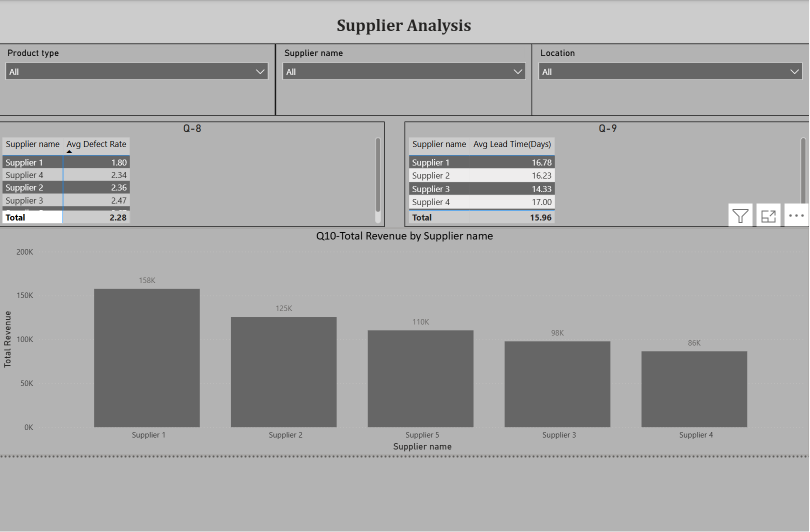

What the dashboard file says about the page in this screenshot:
{"tool":"powerbi","page":{"name":"Supplier Analysis","canvas":[1280,720],"ordinal":2},"visuals":[{"type":"pivotTable","title":"Q-8","fields":{"Rows":["project_supply_chain_data supply_chain_data.Supplier name"],"Values":["project_supply_chain_data supply_chain_data.Avg Defect Rate"]},"box":[0,193,609.5,166.6],"z":0},{"type":"tableEx","title":"Q-9","fields":{"Values":["project_supply_chain_data supply_chain_data.Supplier name","project_supply_chain_data supply_chain_data.Avg Lead Time(Days)"]},"box":[640,193,640,166.6],"z":1000},{"type":"clusteredColumnChart","title":"Q10-Total Revenue by Supplier name","fields":{"Category":["project_supply_chain_data supply_chain_data.Supplier name"],"Y":["project_supply_chain_data supply_chain_data.Total Revenue"]},"box":[0,359.6,1280,359.6],"z":2000},{"type":"textbox","box":[0,2,1280,67],"z":3000},{"type":"slicer","fields":{"Values":["project_supply_chain_data supply_chain_data.Supplier name"]},"box":[436.8,69.1,406.3,113.8],"z":4000},{"type":"slicer","fields":{"Values":["project_supply_chain_data supply_chain_data.Product type"]},"box":[0,69.1,436.8,113.8],"z":5000},{"type":"slicer","fields":{"Values":["project_supply_chain_data supply_chain_data.Location"]},"box":[841.1,69.1,438.9,113.8],"z":6000}]}

Visuals, with their boxes in screenshot pixels (x1, y1, x2, y2):
"Q-8" pivotTable: 4,120,385,224
"Q-9" tableEx: 404,120,803,224
"Q10-Total Revenue by Supplier name" clusteredColumnChart: 4,224,803,449
textbox: 4,1,803,43
slicer - project_supply_chain_data supply_chain_data.Supplier name: 277,43,530,114
slicer - project_supply_chain_data supply_chain_data.Product type: 4,43,277,114
slicer - project_supply_chain_data supply_chain_data.Location: 529,43,803,114
